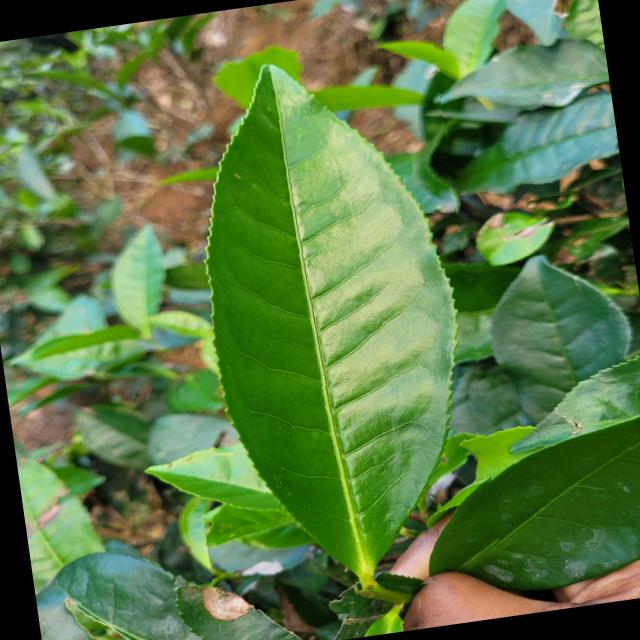Catagory A(1-2 days): (141, 30, 508, 616)
